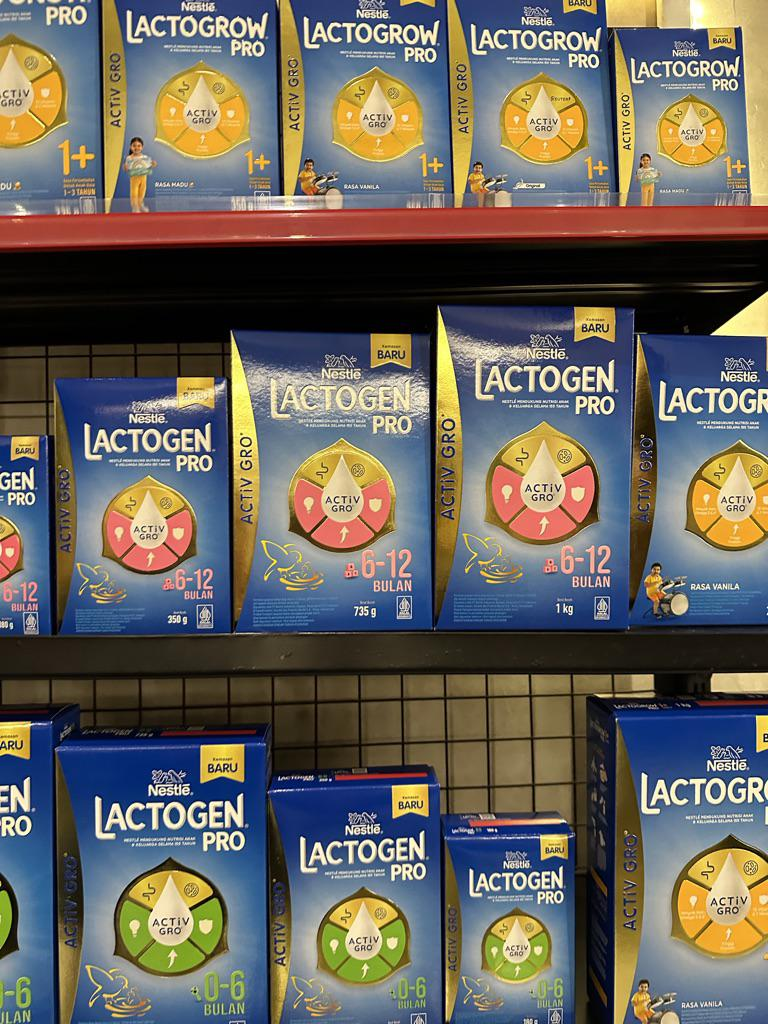LACTOGEN PRO 0-6 mo 24x350g ID: (264, 778, 442, 1019)
LACTOGEN PRO 0-6 mo 40x180g ID: (442, 837, 578, 1020)
LACTOGEN PRO 6-12 mo 12x1kg ID: (431, 298, 633, 628)
LACTOGEN PRO 6-12 mo 12x735g ID: (229, 327, 435, 632)
LACTOGEN PRO 6-12 mo 24x350g ID: (51, 371, 234, 635)
LACTOGROW PRO 1+ Honey 24x350g ID: (98, 0, 282, 212)
LACTOGROW PRO 1+ Honey 40x145g ID: (612, 24, 749, 210)
LACTOGROW PRO 1+ Van 24x350g ID: (277, 0, 454, 211)
